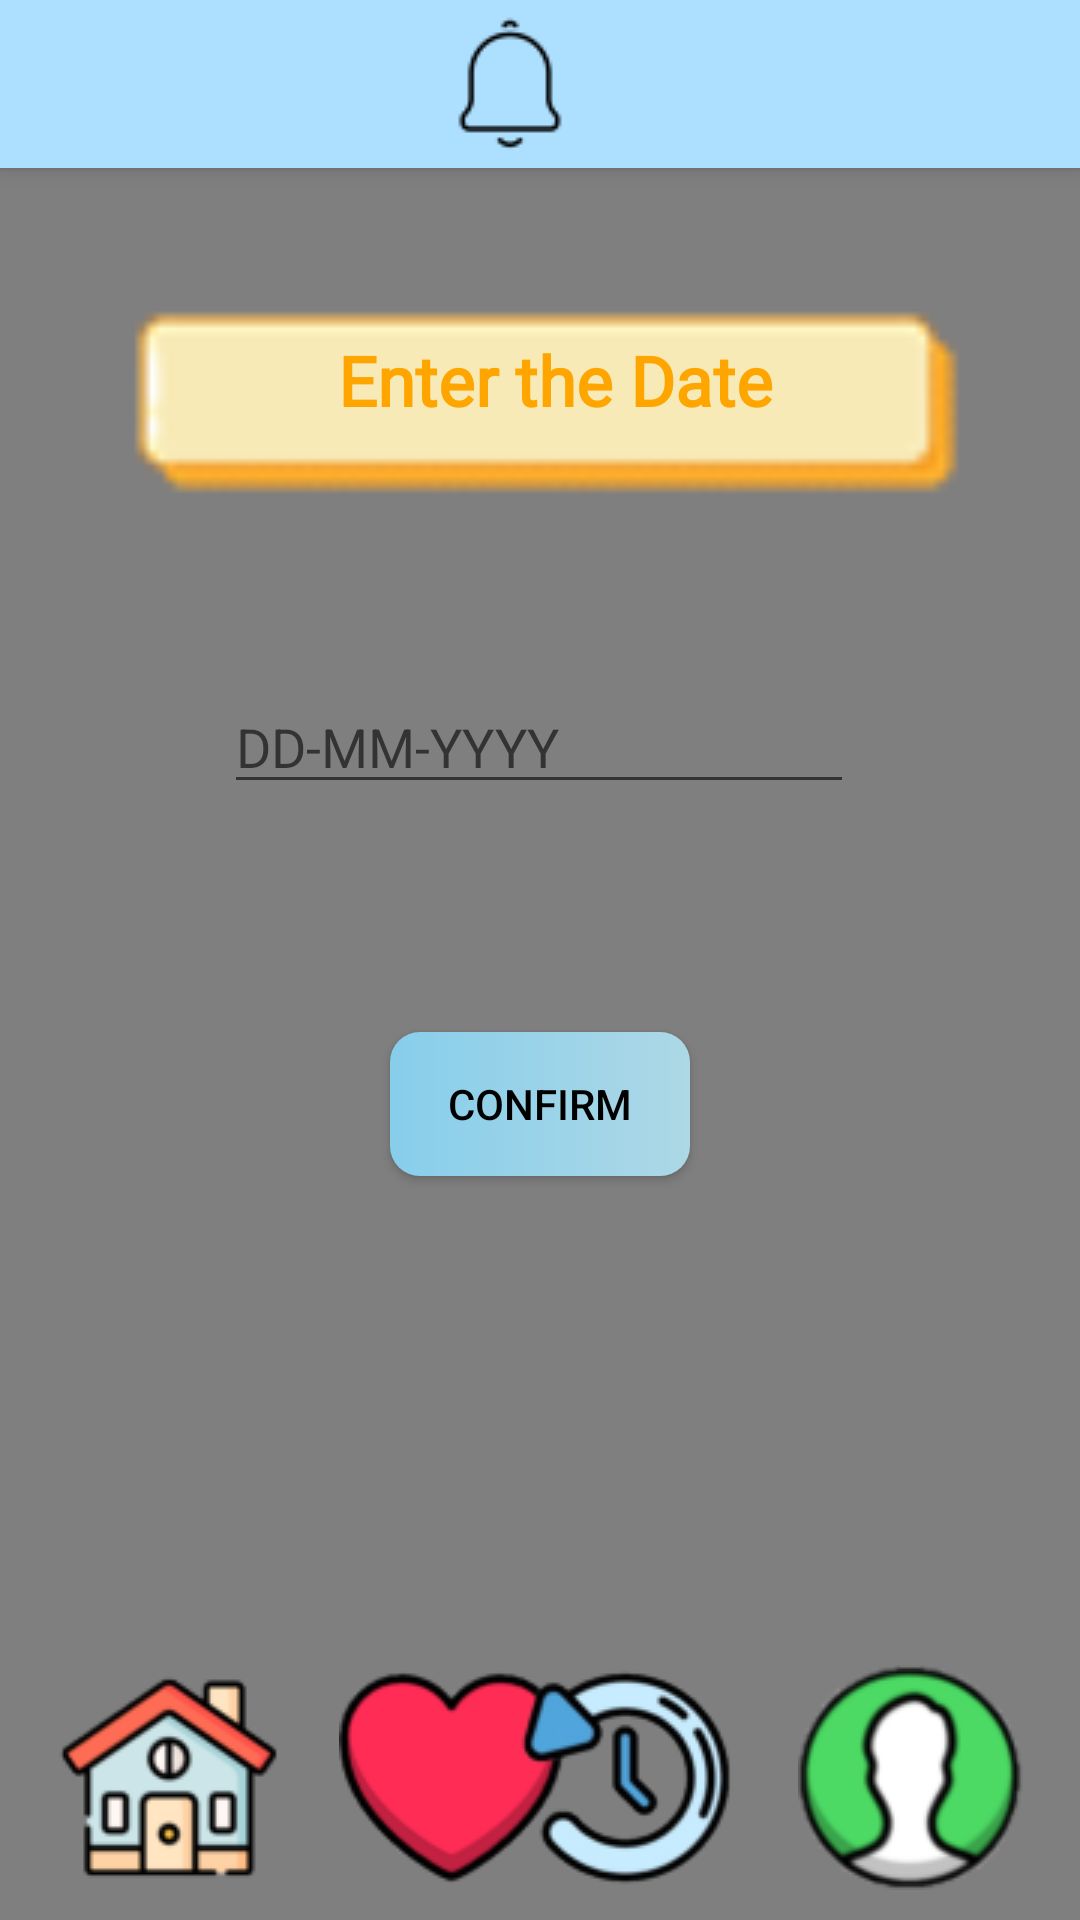

Icons on this 1080 x 1920 Android screen, each with the point to tap as point (x, y):
heart: point (451, 1777)
history: point (623, 1777)
home: point (169, 1777)
notification: point (510, 83)
profile: point (909, 1777)
